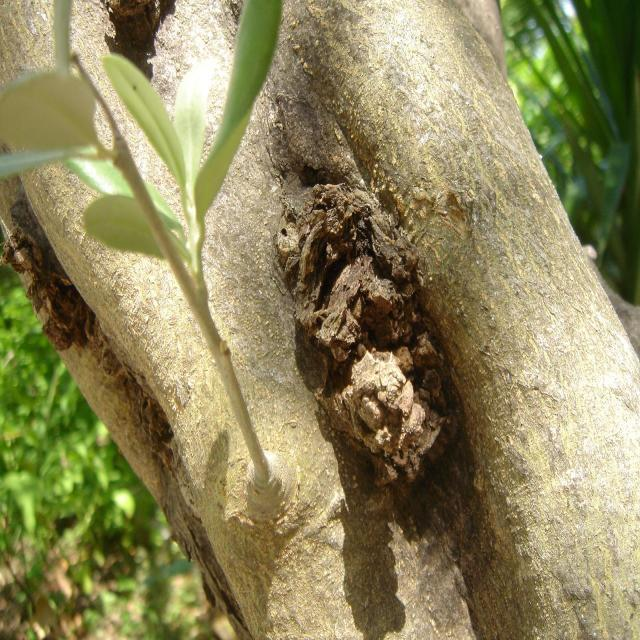Tuberculosis: (275, 165, 457, 510)
